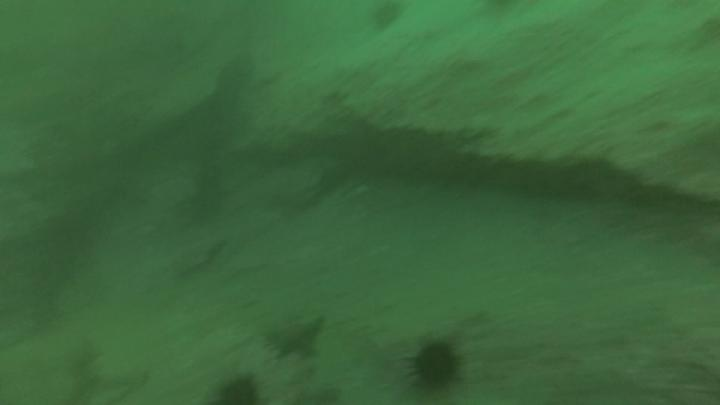echinus: (405, 336, 463, 393), (210, 372, 262, 405), (372, 1, 402, 34)
starfish: (263, 314, 329, 364)
